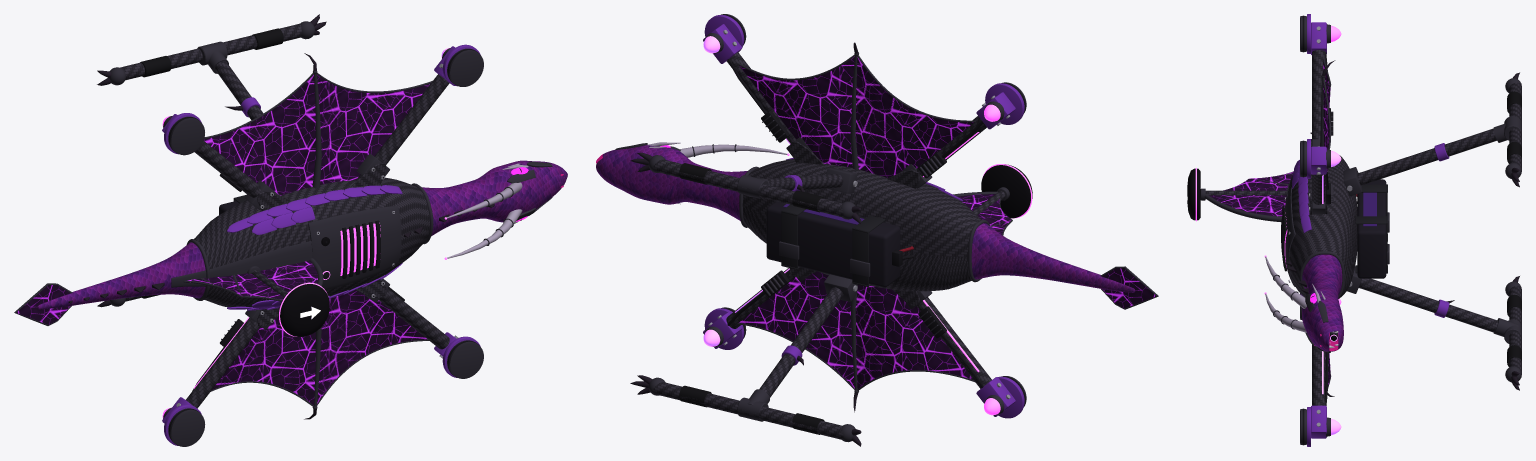
File: wyvern_body.glb
The picture shows the model from 3 angles, left to right: view 1: azimuth 30°, elevation 25°; view 2: azimuth 150°, elevation 25°; view 3: azimuth 270°, elevation 25°; orthographic projection. The views are drawn at different scales.
Parts seen in each view (by area): view 1: wyvern_body; view 2: wyvern_body; view 3: wyvern_body.
Boxes of the visible parts, x1,y1,x2,y2 form: wyvern_body: [14, 14, 567, 446]; wyvern_body: [596, 14, 1158, 446]; wyvern_body: [1187, 14, 1521, 446].
Bounding box in the file's own units: 0.6947 × 0.437 × 0.394.
Materials: 23 (3 with a texture image).
